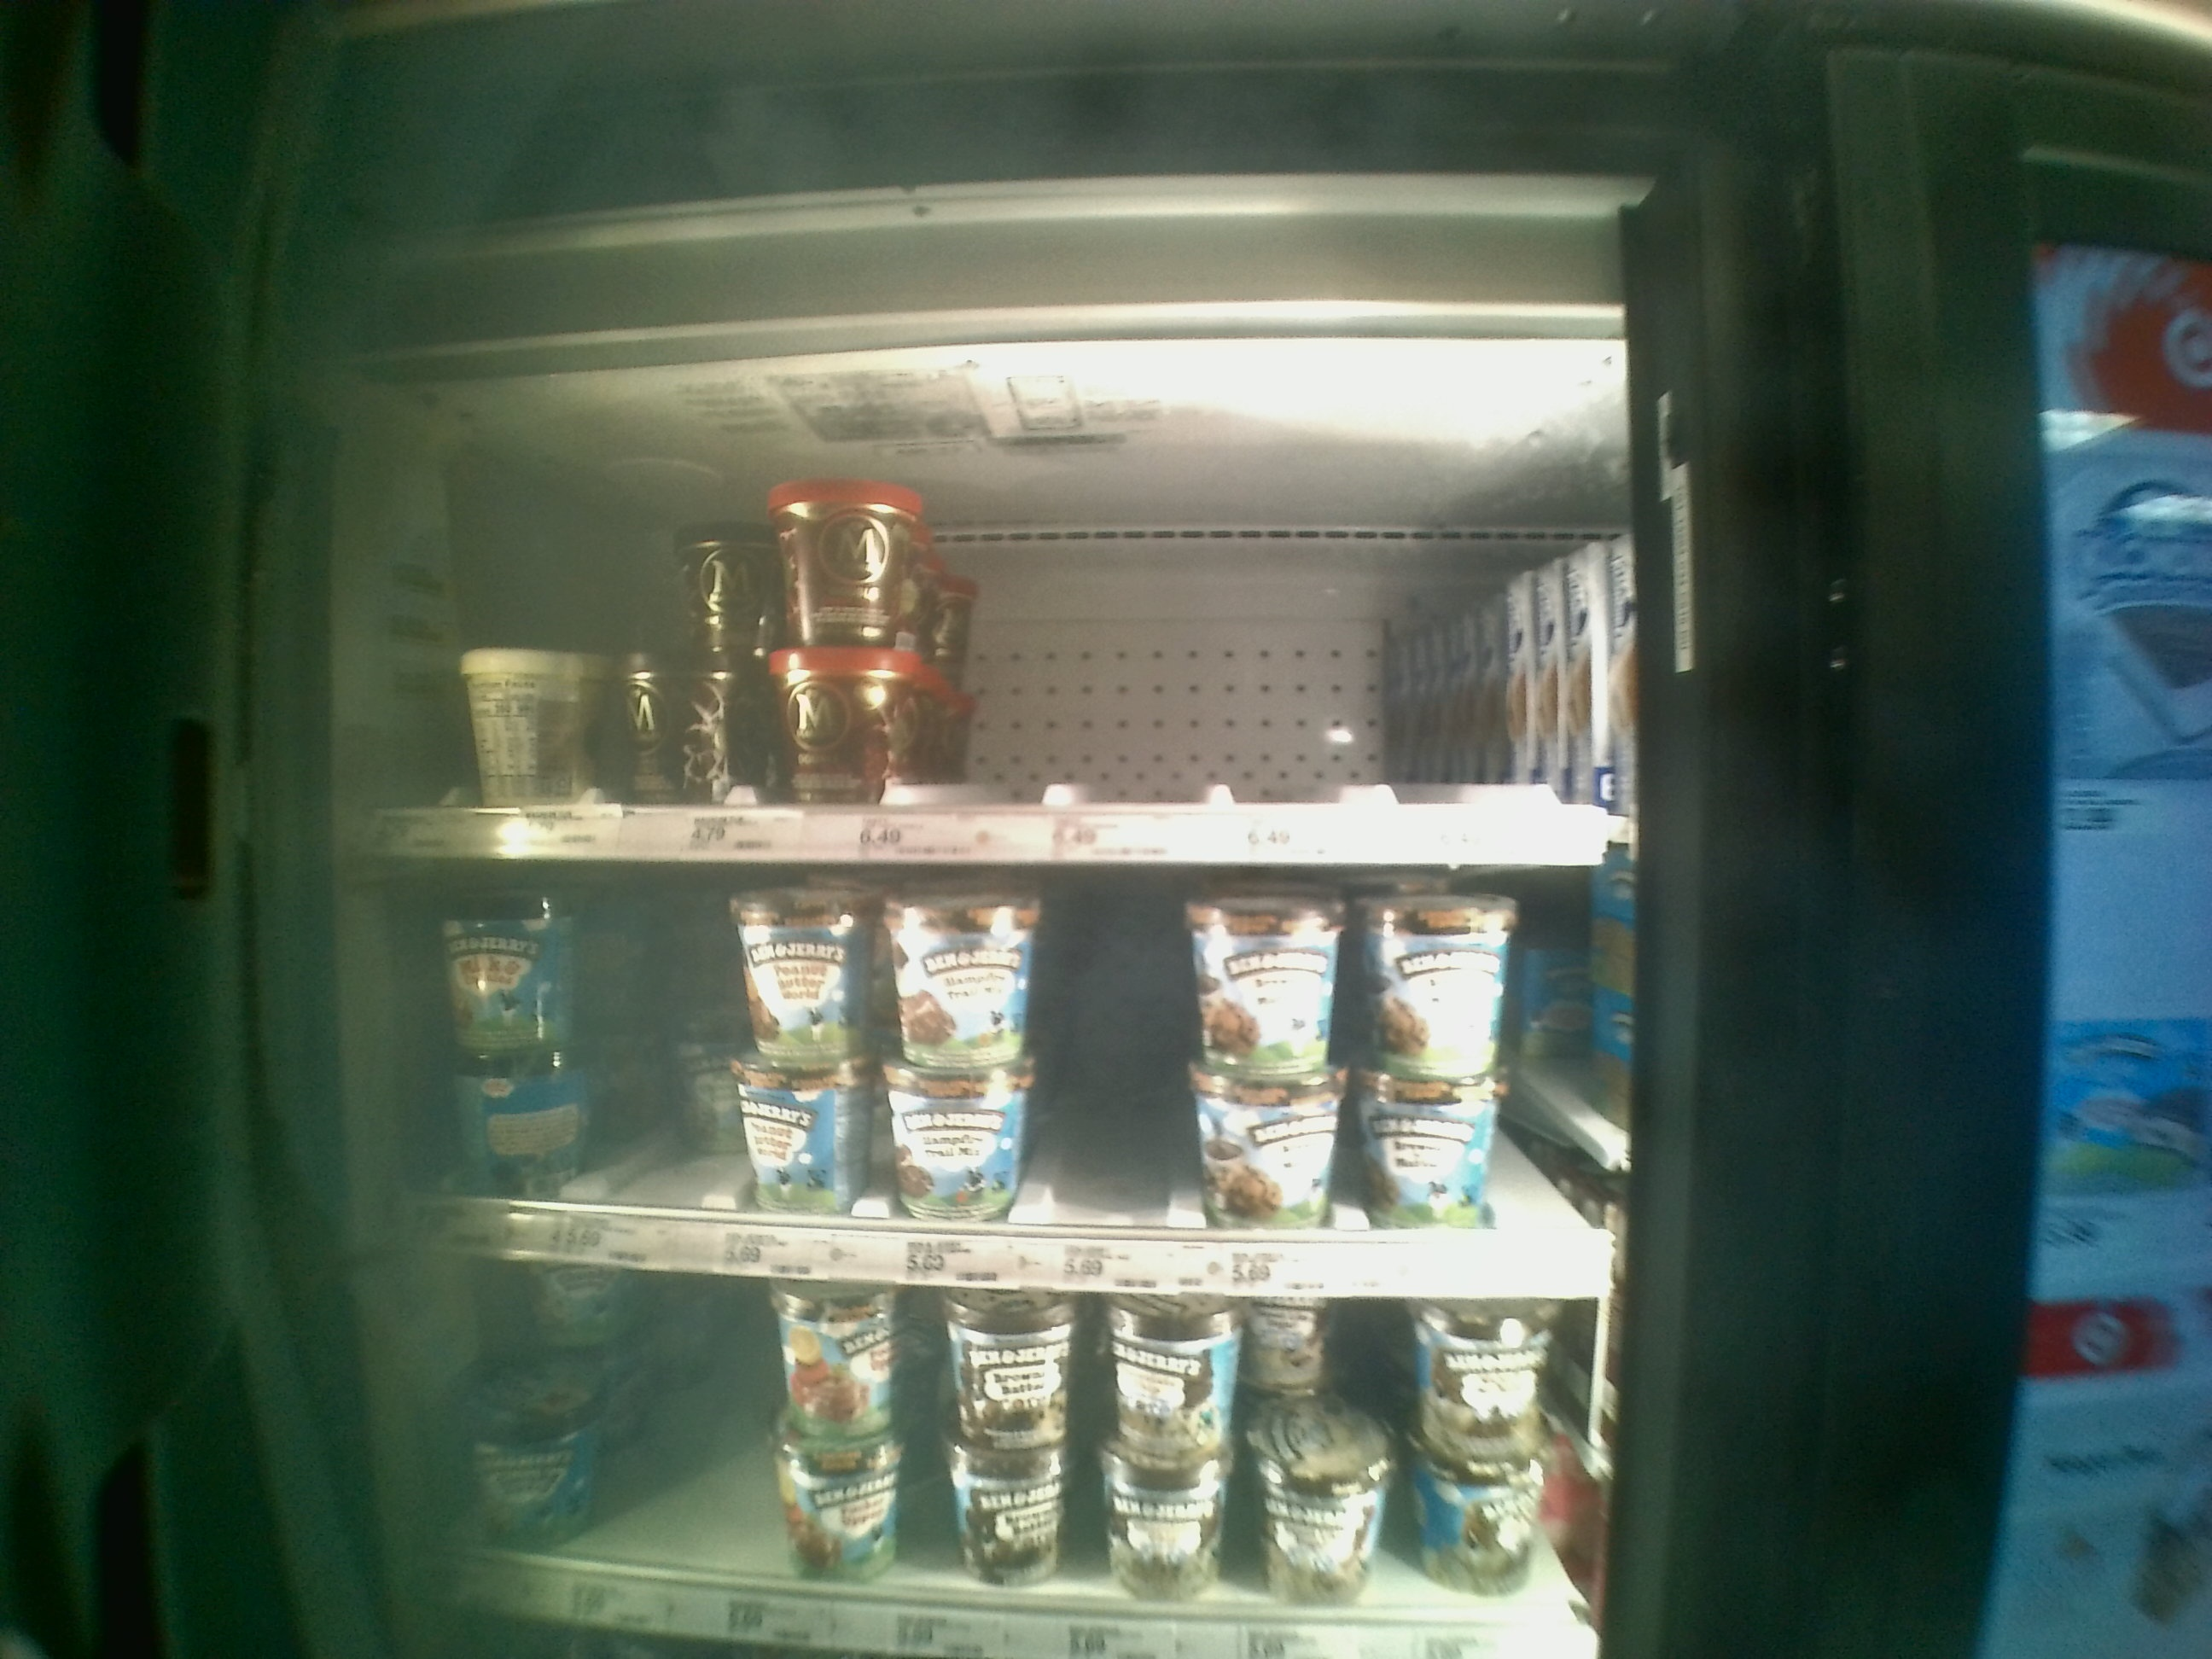ice-cream-shelf: (348, 403, 1634, 863), (350, 863, 1623, 1297)
